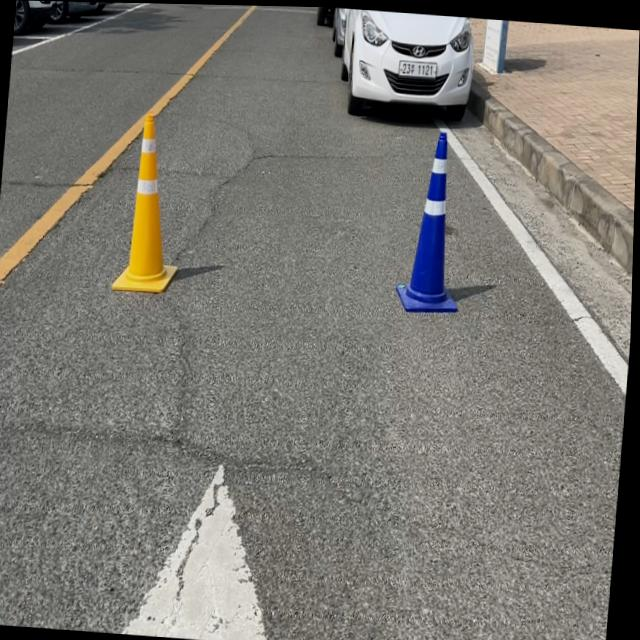b_rub: (399, 126, 460, 309)
y_rub: (113, 111, 179, 291)
